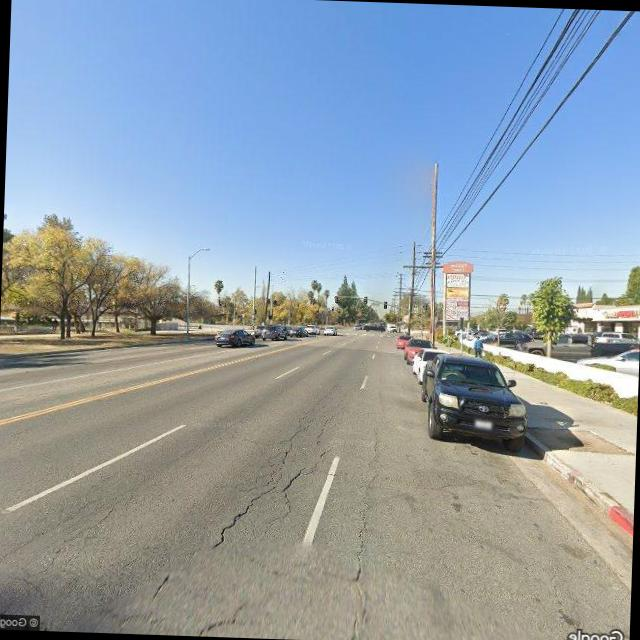crack: (209, 398, 342, 556)
pothole: (350, 424, 388, 570)
